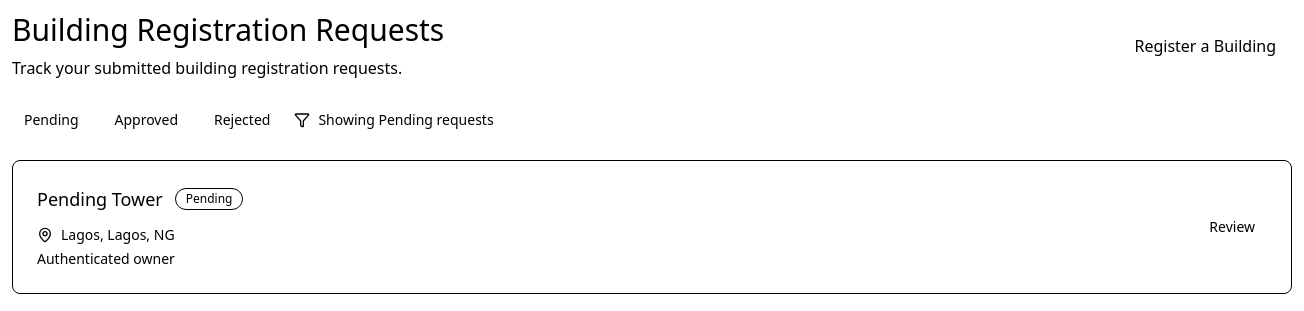
it: BuildingRegistrationRequestsList › loads the selected landlord request status without using the admin endpoint
Expected: the heading "Pending Tower" is shown, [37,185,163,213]
Click the button "Approved". click: [146, 120]
box: [102,104,190,136]
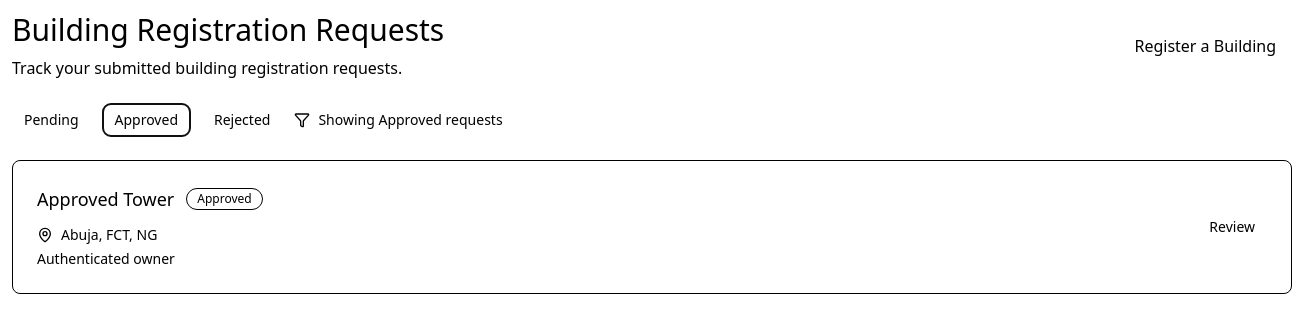
Now the heading "Approved Tower" is shown, box [37,185,174,213]
